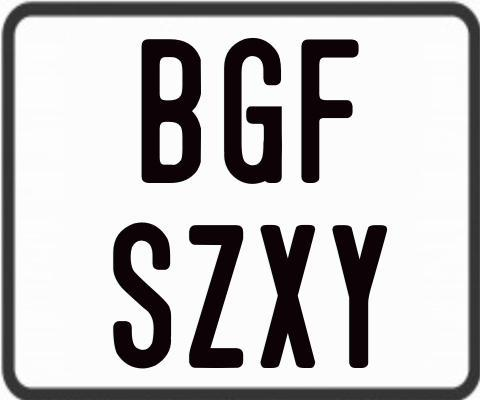B: (140, 38, 201, 188)
F: (298, 39, 362, 189)
G: (223, 37, 284, 186)
S: (110, 220, 173, 369)
X: (258, 223, 312, 368)
Y: (331, 224, 387, 371)
Z: (186, 225, 244, 368)
